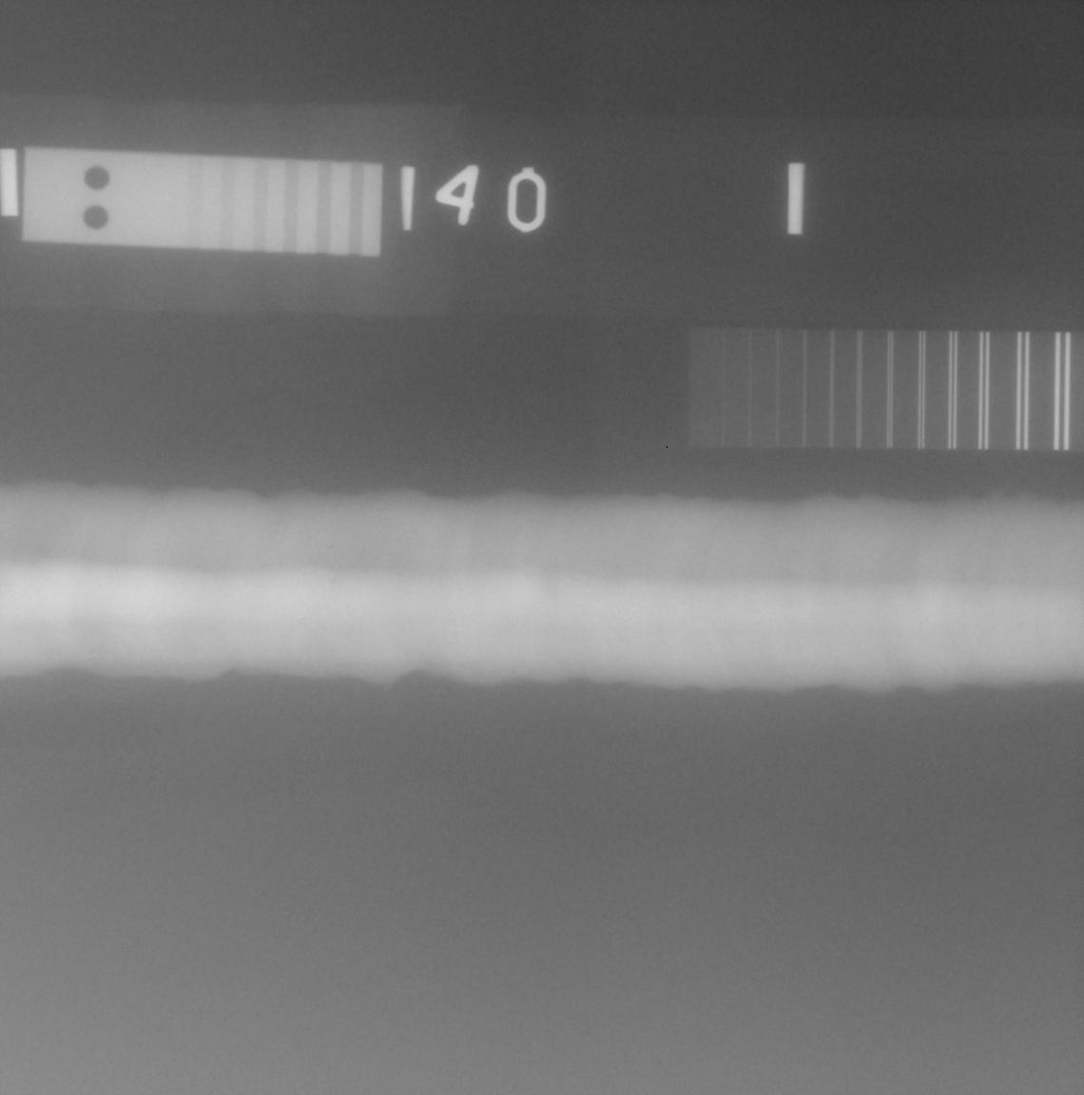Pore/Porosity: (330, 577, 339, 584), (328, 544, 333, 548)
Reference Standard 2: (22, 146, 383, 257)
